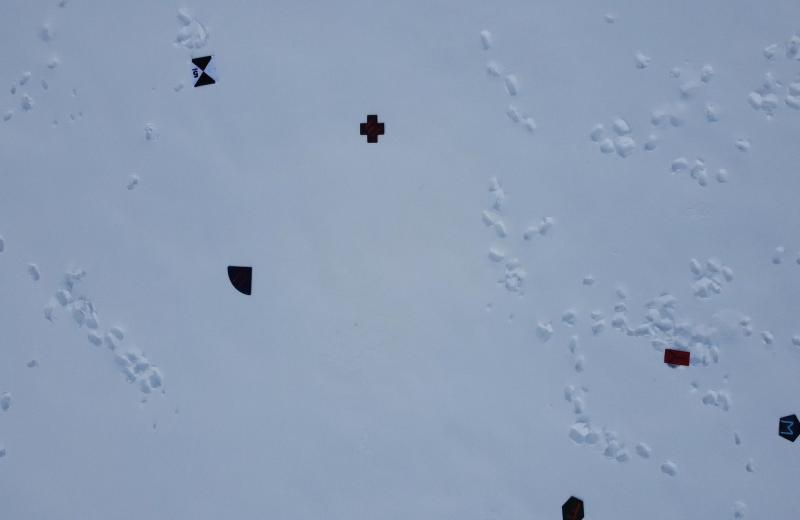Cross: (358, 111, 386, 146)
Hexagon: (559, 496, 587, 520)
Pentagon: (772, 402, 800, 448)
Quarter Circle: (224, 260, 256, 297)
Rectangle: (1, 1, 800, 520), (662, 340, 692, 376)
